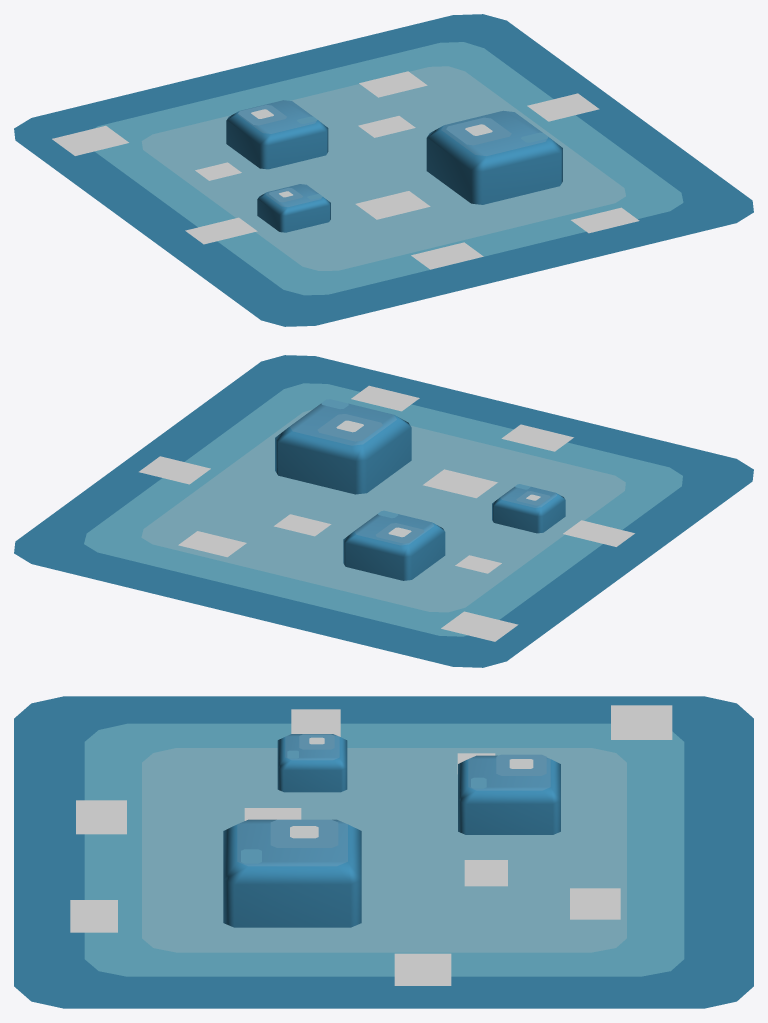
Rendered from BC_cookrecipe_S_15.fbx.
3 renders of one model, top to bottom at view 1: azimuth 30°, elevation 25°; view 2: azimuth 150°, elevation 25°; view 3: azimuth 270°, elevation 25°, orthographic. The views are drawn at different scales.
Visible parts, largest first — view 1: polySurface1, cube1, cube3, cube2, boko4, boko7, boko1, boko2, boko3, boko5, boko6, boko8; view 2: polySurface1, cube1, cube3, cube2, boko4, boko7, boko1, boko2, boko3, boko5, boko6, boko8; view 3: polySurface1, cube1, cube3, cube2, boko4, boko1, boko2, boko5, boko6, boko3, boko8, boko7.
Boxes of the visible parts, <box> form: polySurface1: <box>14,14,753,326</box>; cube1: <box>426,110,562,204</box>; cube3: <box>226,100,328,169</box>; cube2: <box>257,184,330,232</box>; boko4: <box>52,125,128,155</box>; boko7: <box>355,191,430,219</box>; boko1: <box>527,93,599,121</box>; boko2: <box>411,242,483,269</box>; boko3: <box>185,217,257,244</box>; boko5: <box>359,71,427,97</box>; boko6: <box>571,207,639,233</box>; boko8: <box>358,116,415,137</box>; polySurface1: <box>14,355,753,667</box>; cube1: <box>275,399,411,494</box>; cube3: <box>343,510,445,580</box>; cube2: <box>492,484,565,533</box>; boko4: <box>441,611,518,641</box>; boko7: <box>423,469,497,498</box>; boko1: <box>139,456,210,484</box>; boko2: <box>501,424,573,451</box>; boko3: <box>563,520,634,546</box>; boko5: <box>178,531,246,557</box>; boko6: <box>351,385,419,411</box>; boko8: <box>274,514,331,536</box>; polySurface1: <box>14,696,753,1008</box>; cube1: <box>223,819,361,927</box>; cube3: <box>458,754,560,834</box>; cube2: <box>277,734,347,792</box>; boko4: <box>611,705,672,739</box>; boko1: <box>394,953,451,985</box>; boko2: <box>76,800,126,834</box>; boko5: <box>570,888,620,919</box>; boko6: <box>70,900,117,932</box>; boko3: <box>291,709,340,736</box>; boko8: <box>464,860,507,886</box>; boko7: <box>244,808,301,820</box>.
Bounding box in the file's own units: 3.5 × 0.6734 × 3.5.
